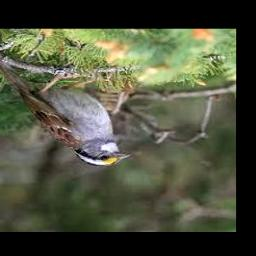Sparrow: (0, 57, 131, 167)
